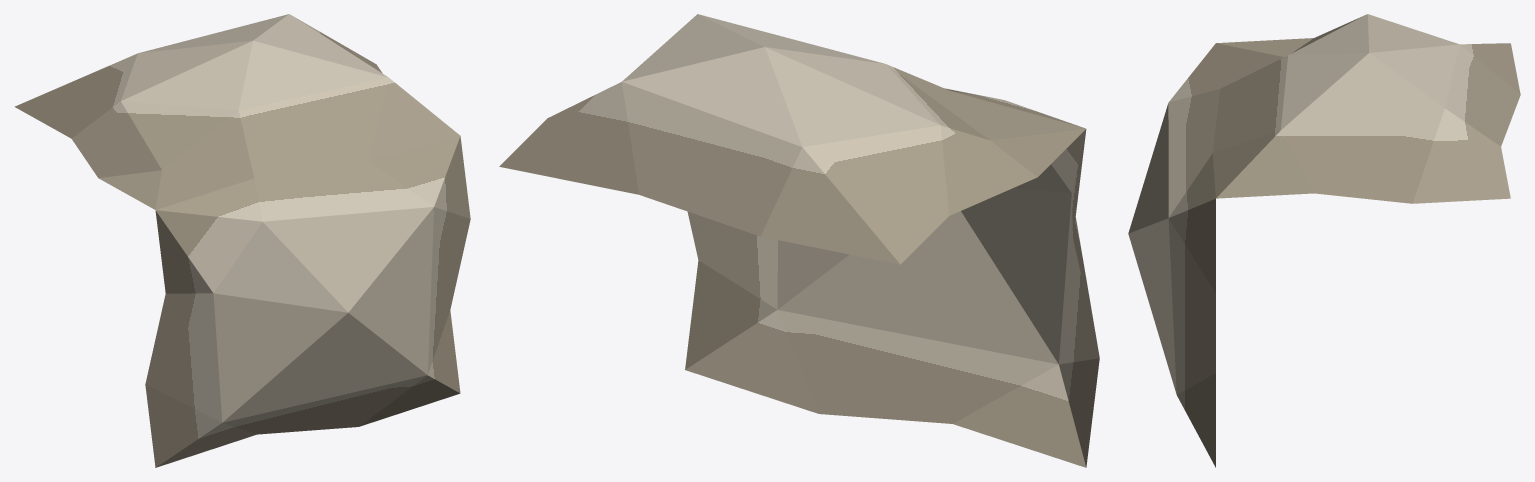
The model's file is SoftQuarterWallCorner_01.fbx.
3 renders of one model, left to right at view 1: azimuth 30°, elevation 25°; view 2: azimuth 150°, elevation 25°; view 3: azimuth 270°, elevation 25°, orthographic. The views are drawn at different scales.
Parts seen in each view (by area): view 1: SoftQuarterWallCorner_01; view 2: SoftQuarterWallCorner_01; view 3: SoftQuarterWallCorner_01.
Boxes of the visible parts, left/top/right/bottom form: SoftQuarterWallCorner_01: left=14, top=14, right=470, bottom=467; SoftQuarterWallCorner_01: left=499, top=14, right=1099, bottom=467; SoftQuarterWallCorner_01: left=1128, top=14, right=1520, bottom=467.
Size of the model in its own units: 55.28 by 55.28 by 55.28.
Materials: 1 (1 with a texture image).
